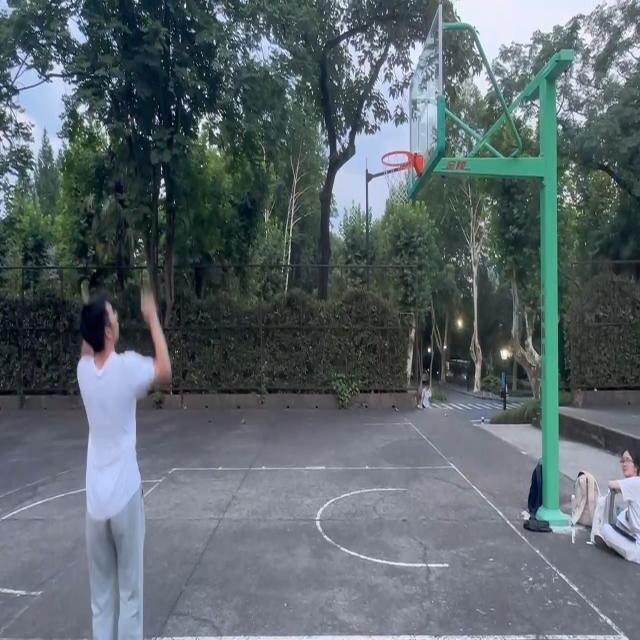basketball: (382, 150, 426, 203)
